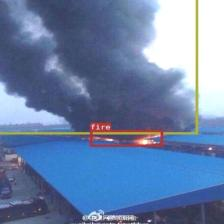fire: (90, 129, 162, 146)
smoke: (0, 0, 197, 133)
